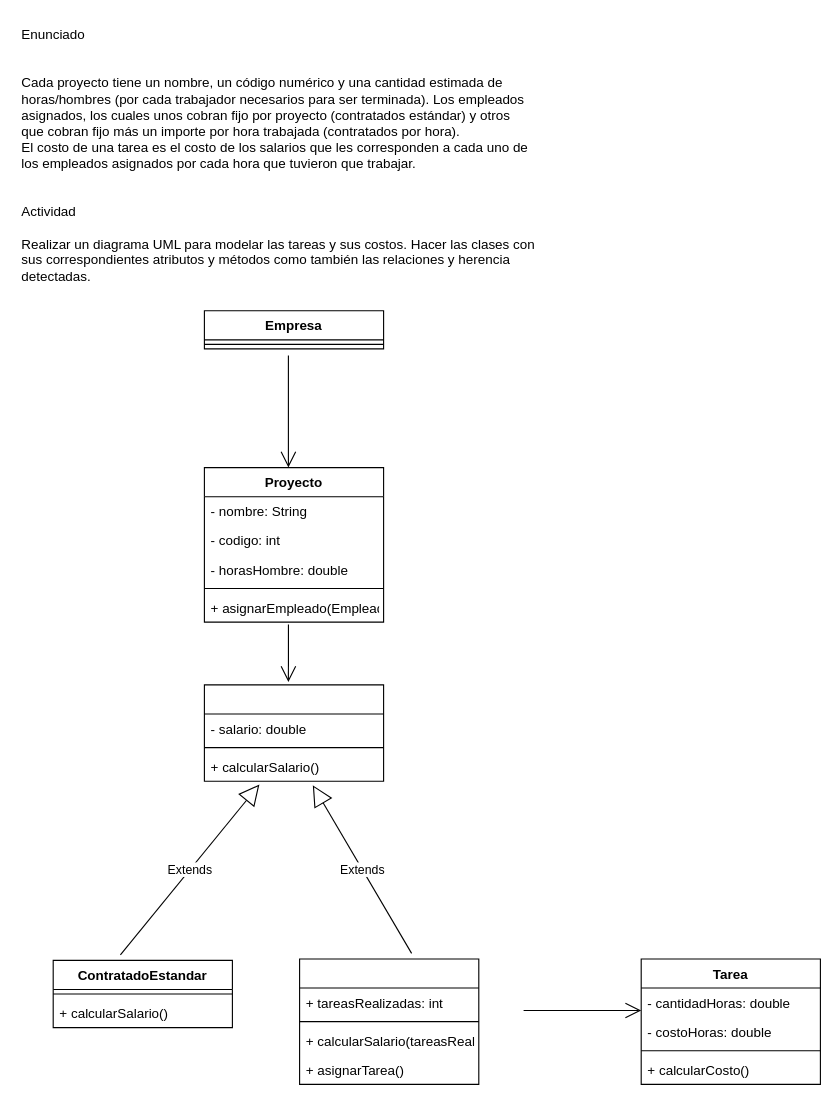
The diagram is 840 pixels wide and 1107 high, and some of its shapes have lost their labels. The box of each missing label's shape, as (x1, y1, x2, y2) in pixels:
ContratadoHora: (298, 958, 479, 1084)
Empleado: (203, 684, 384, 781)
